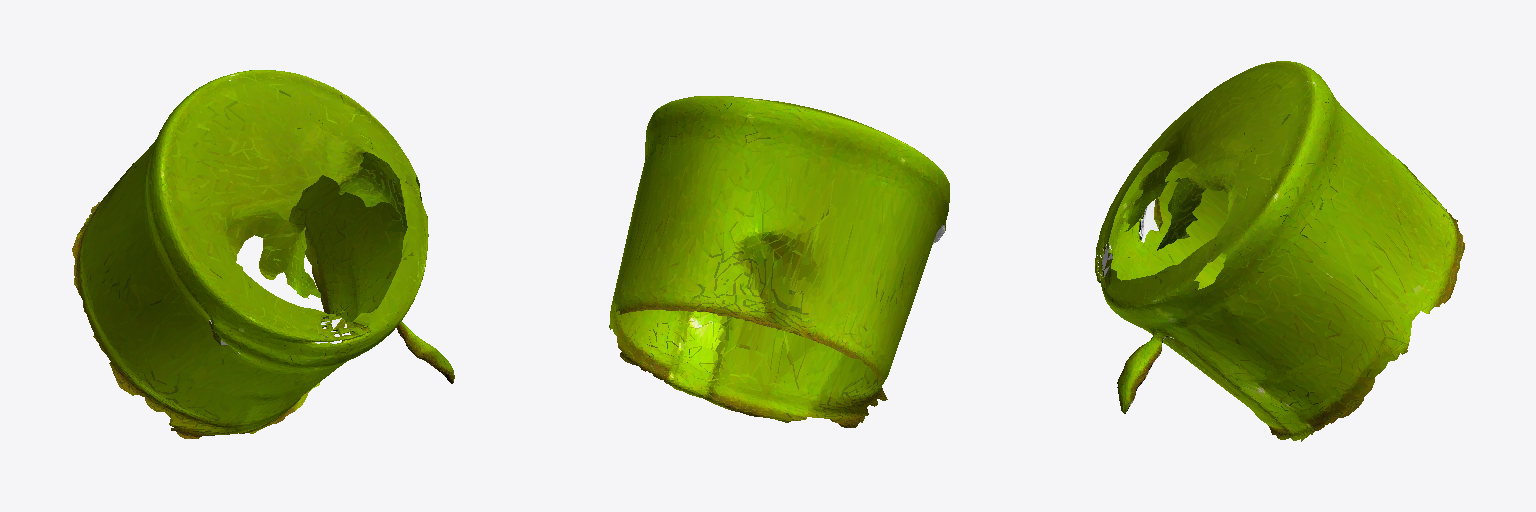
The picture shows the model from 3 angles: view 1: azimuth 30°, elevation 25°; view 2: azimuth 150°, elevation 25°; view 3: azimuth 270°, elevation 25°; orthographic projection.
Bounding box in the file's own units: 144 × 172 × 170.
Materials: 2 (1 with a texture image).